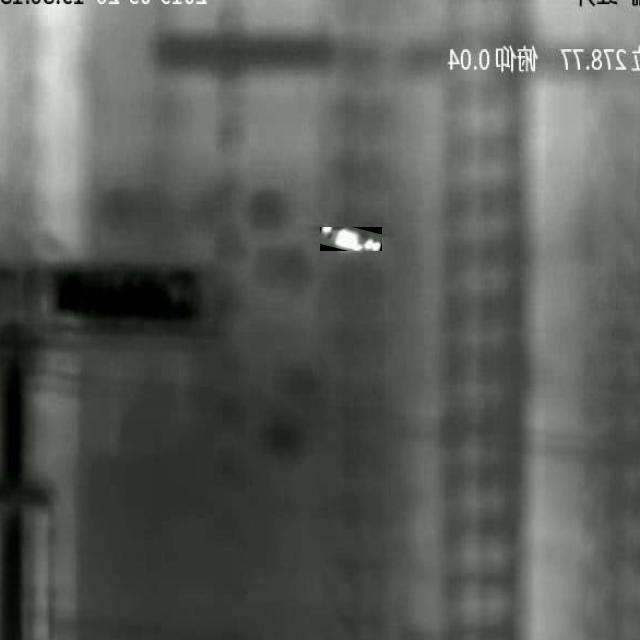drone: (320, 227, 382, 251)
